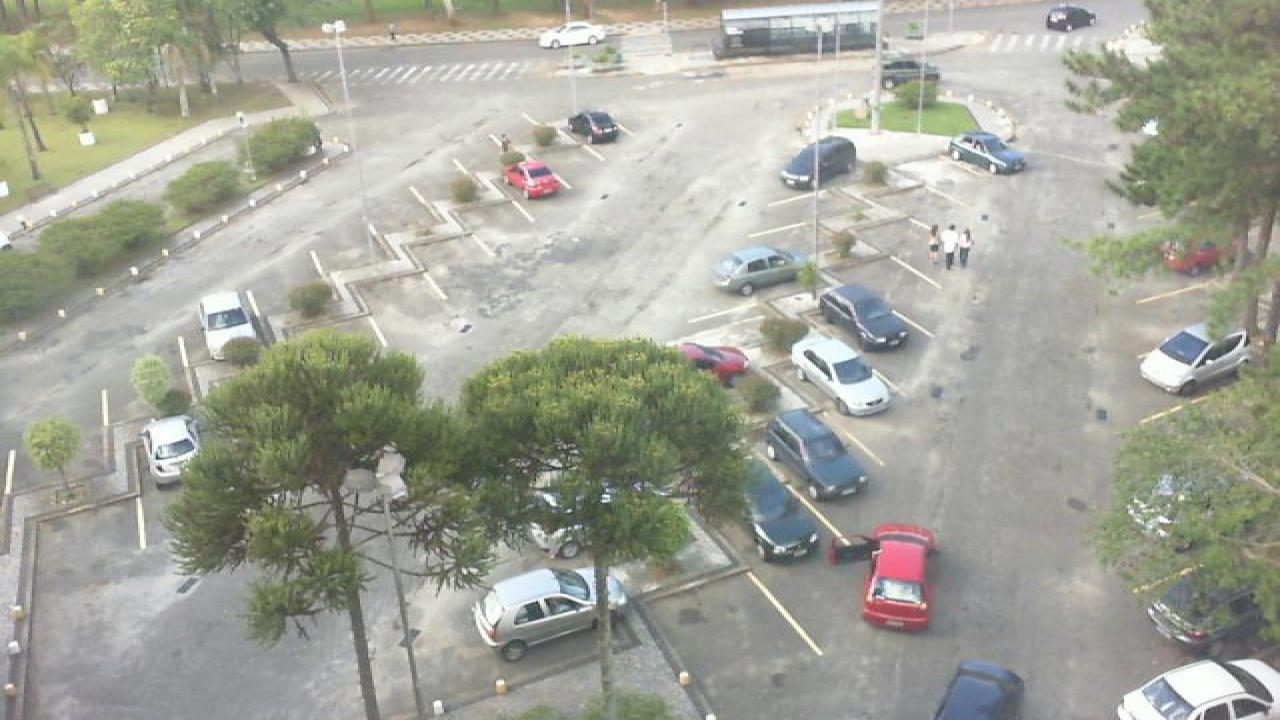Car: (470, 567, 630, 663), (828, 522, 938, 631), (1114, 657, 1280, 720), (760, 407, 868, 502), (788, 333, 896, 417), (738, 458, 820, 564), (1136, 323, 1250, 396), (1142, 579, 1248, 650), (816, 283, 910, 351), (932, 659, 1028, 720), (196, 288, 272, 363), (710, 245, 800, 297), (780, 135, 860, 191), (140, 414, 202, 486), (944, 130, 1030, 176), (676, 341, 750, 387), (500, 159, 566, 199), (1162, 241, 1230, 278), (564, 108, 622, 145)
